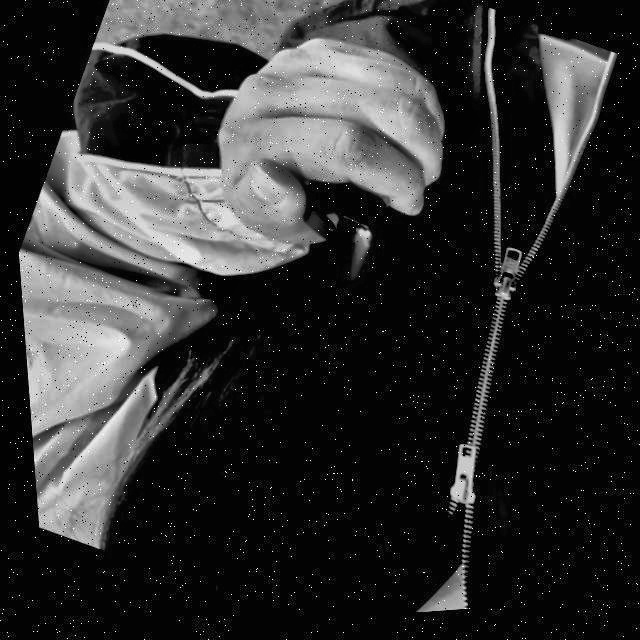Fire: (322, 231, 377, 309)
